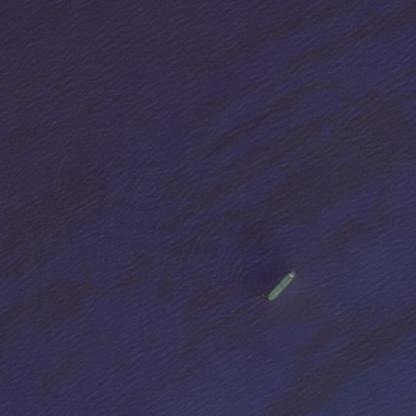ship: (260, 265, 301, 306)
